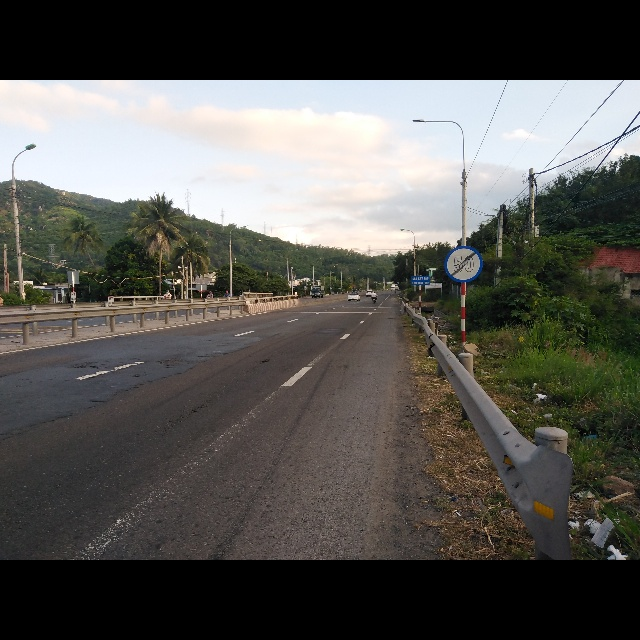Hết hạn chế tốc độ tối đa 50km/h: (443, 245, 484, 284)
